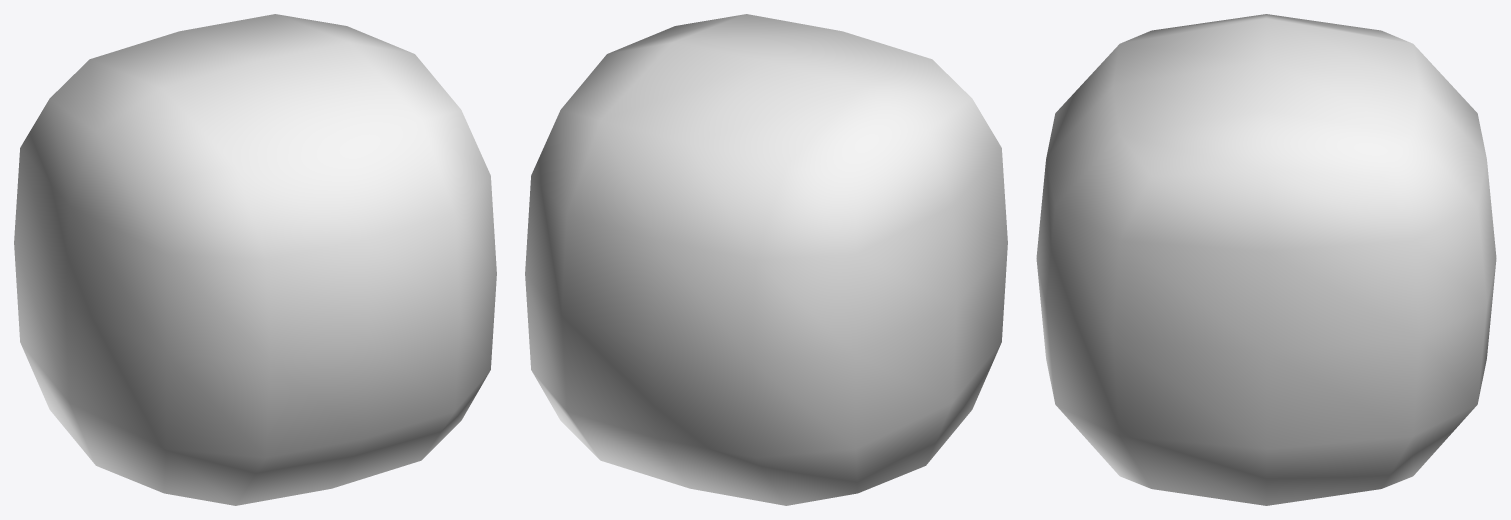
Rendered from Wite_tree_farm.fbx.
The picture shows the model from 3 angles, left to right: view 1: azimuth 30°, elevation 25°; view 2: azimuth 150°, elevation 25°; view 3: azimuth 270°, elevation 25°; orthographic projection.
Parts seen in each view (by area): view 1: 4.013; view 2: 4.013; view 3: 4.013.
Boxes of the visible parts, x1=… form: 4.013: x1=14, y1=14, x2=496, y2=505; 4.013: x1=525, y1=14, x2=1007, y2=505; 4.013: x1=1036, y1=14, x2=1496, y2=505.
Bounding box in the file's own units: 0.778 × 0.8119 × 0.778.
